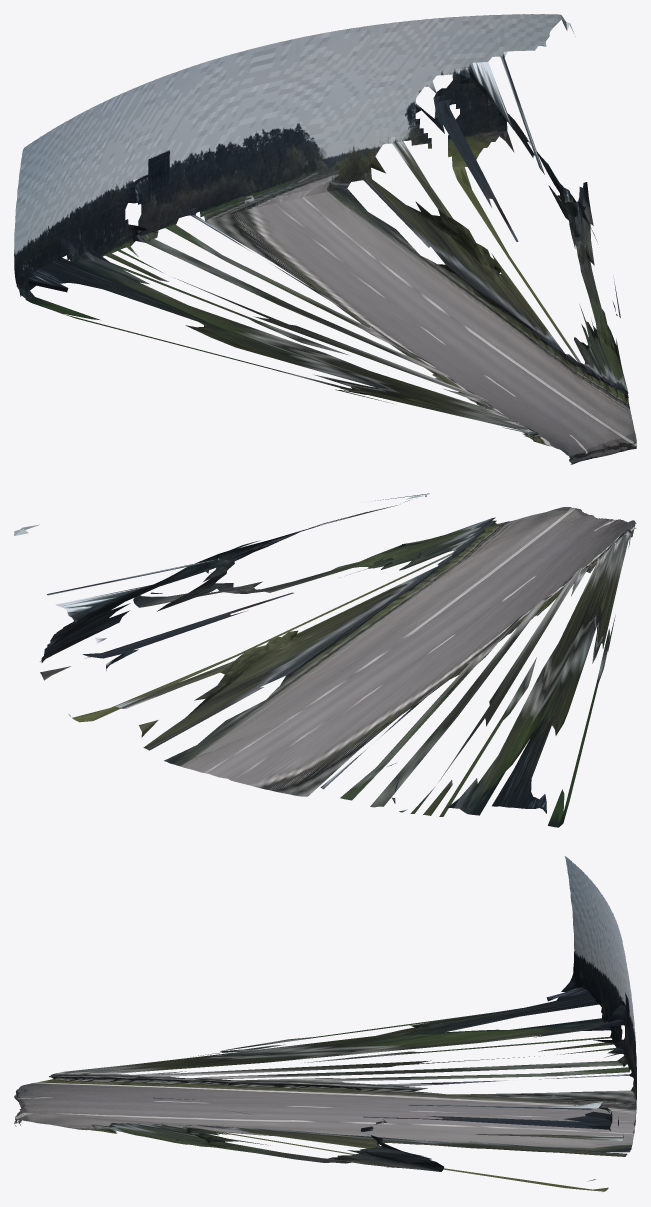
3 views of the same model, one above another, from view 1: azimuth 30°, elevation 25°; view 2: azimuth 150°, elevation 25°; view 3: azimuth 270°, elevation 25° (orthographic). The views are drawn at different scales.
Visible parts, largest first — view 1: defaultobject; view 2: defaultobject; view 3: defaultobject.
Boxes of the visible parts, x1,y1,x2,y2 form: defaultobject: [14, 14, 636, 464]; defaultobject: [14, 493, 636, 827]; defaultobject: [14, 856, 636, 1191].
Size of the model in its own units: 40.41 by 12.02 by 44.38.
1 material, 1 textured.
